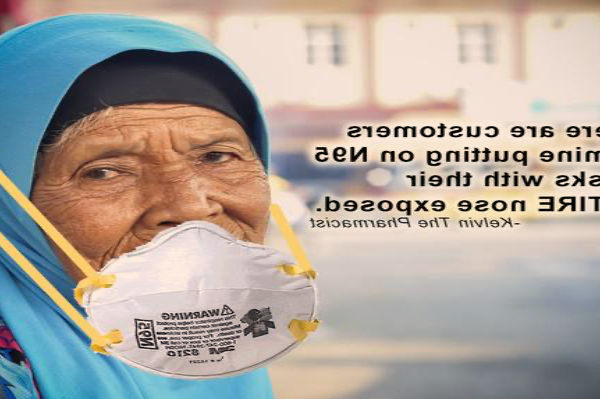mask_weared_incorrect: (41, 128, 273, 307)
